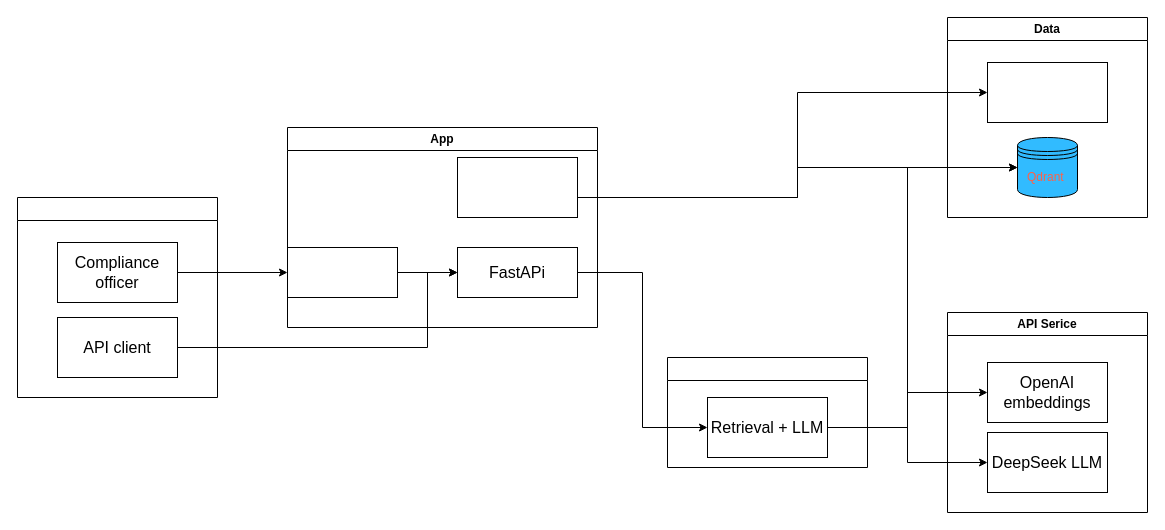
Image size: 1165x530. Some labels were removed from this diagram. The box of each missing label's shape, as (x1, y1, x2, y2) in pixels:
CLI Batch: (456, 156, 578, 218)
RAG: (666, 356, 868, 468)
raw PDF/HTM: (986, 62, 1108, 122)
Users: (16, 196, 218, 398)
Web UI: (286, 246, 398, 298)
